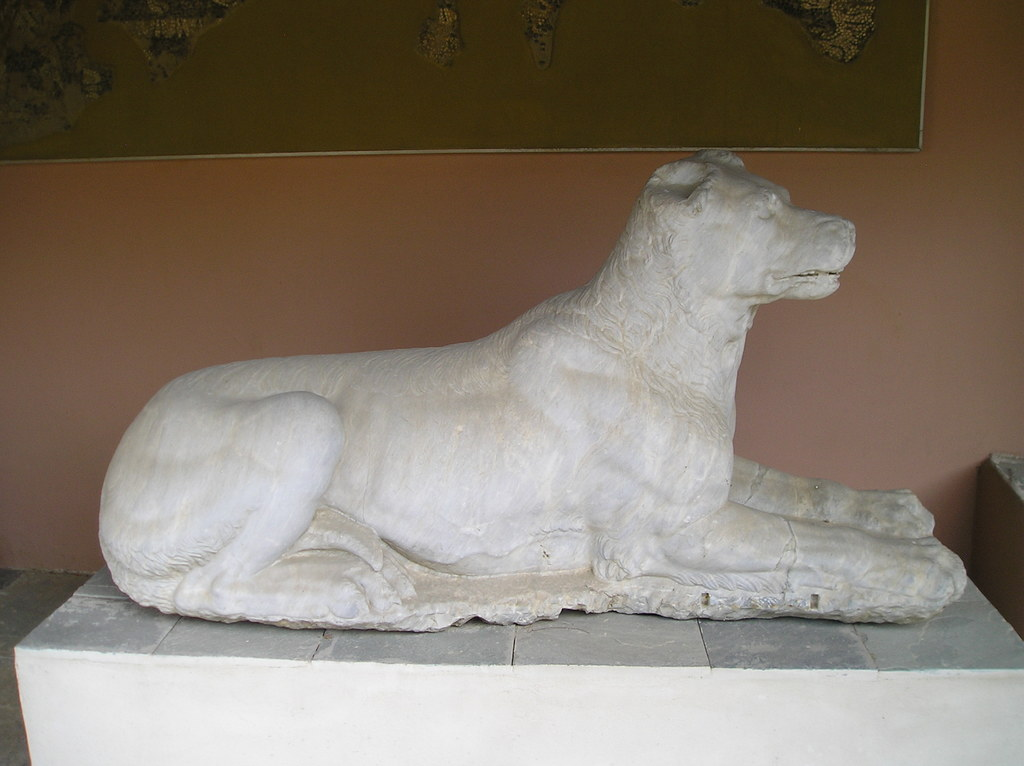Animal: (96, 150, 966, 628)
